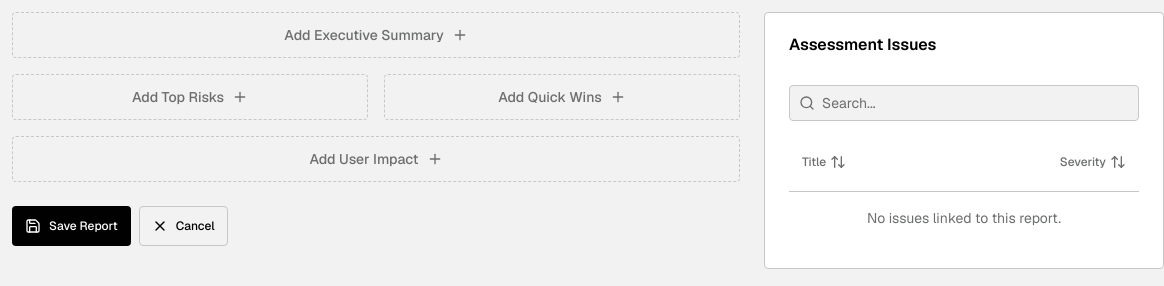
ReportEditForm › disables save button while saving
Click the button "Save Report" at {"x": 71, "y": 226}, box [12,206,131,246]
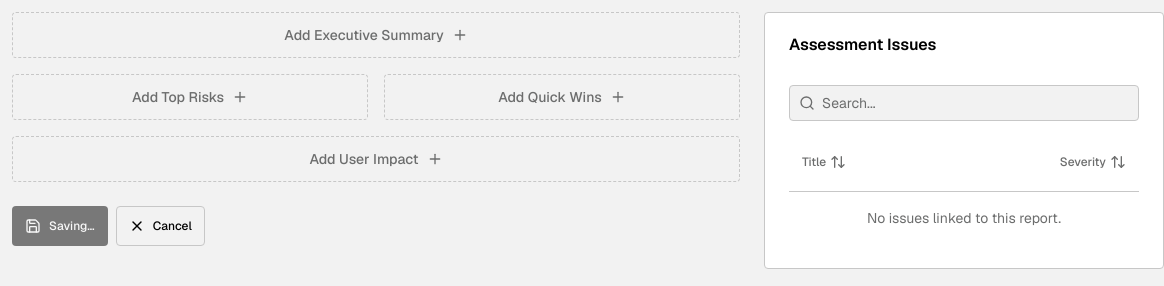
Result: the button "Saving…" is disabled at [12,206,108,246]
